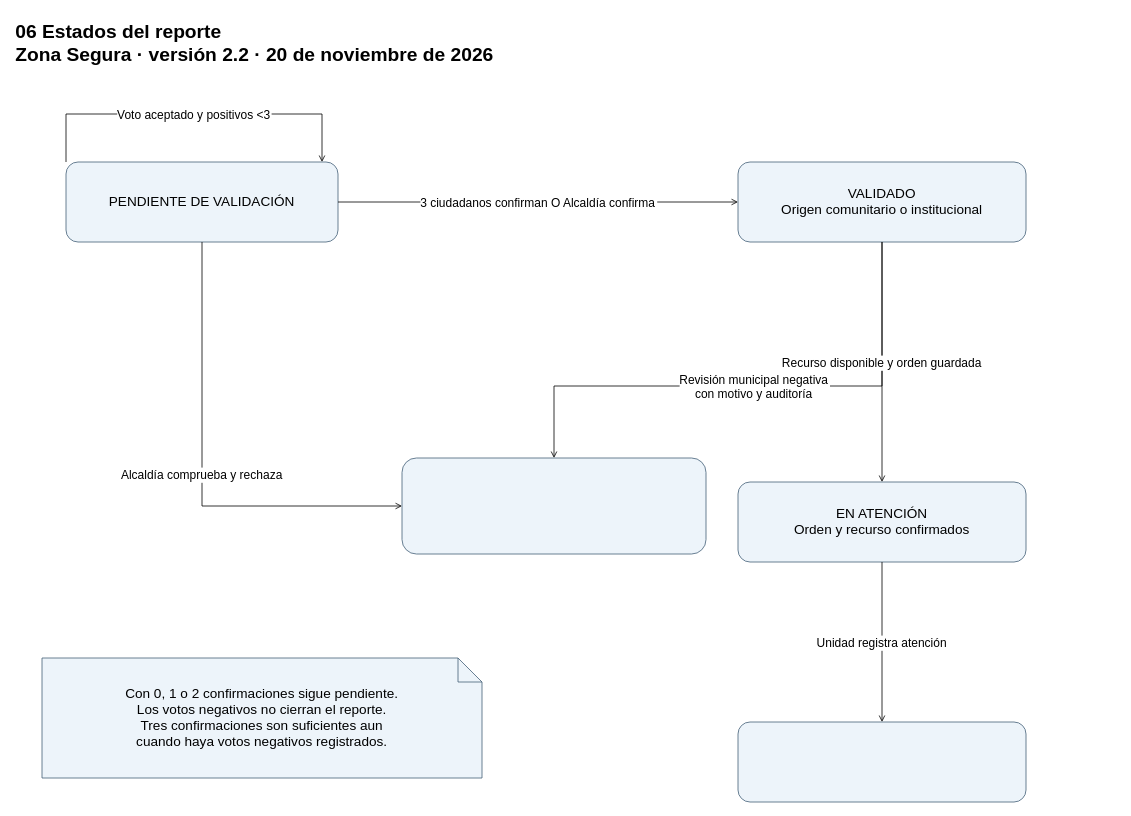
Some shapes in this 1131 by 816 pixel diagram are drawn without their labels. Here are the shapes that lost their labels. From the top down, the centre of each, then its label:
the point at 553,505: RECHAZADO Decisión institucional fundamentada o moderación autorizada
the point at 881,761: ATENDIDO Resultado operativo registrado
